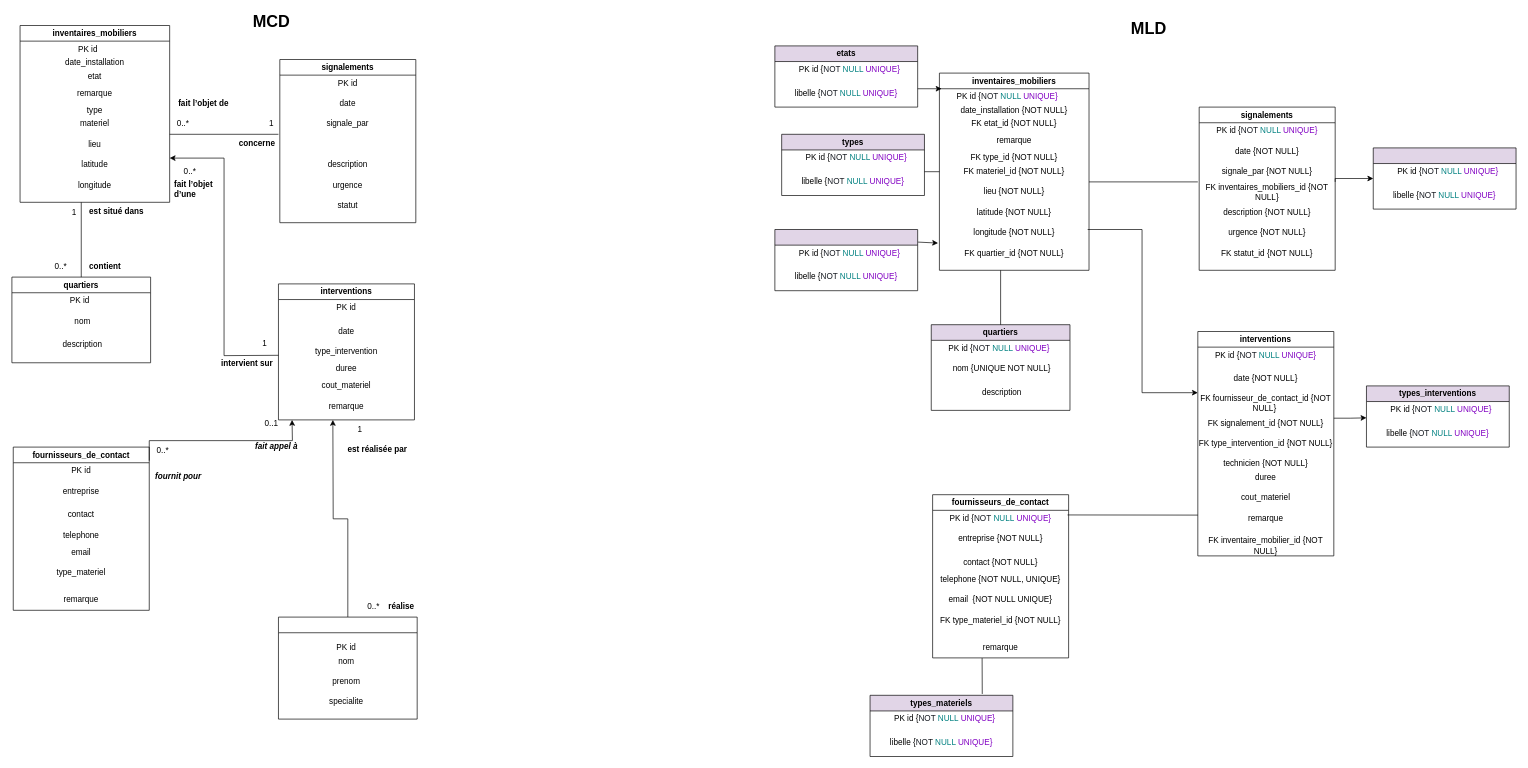
The diagram is 1528 pixels wide and 768 high, and some of its shapes have lost their labels. The shapes that lost their labels are listed below. From the top down, each one's box as (x1, y1, x2, y2) in pixels, then its label:
(1373, 147, 1516, 209): statuts
(774, 229, 918, 291): materiels
(278, 616, 417, 719): techniciens
